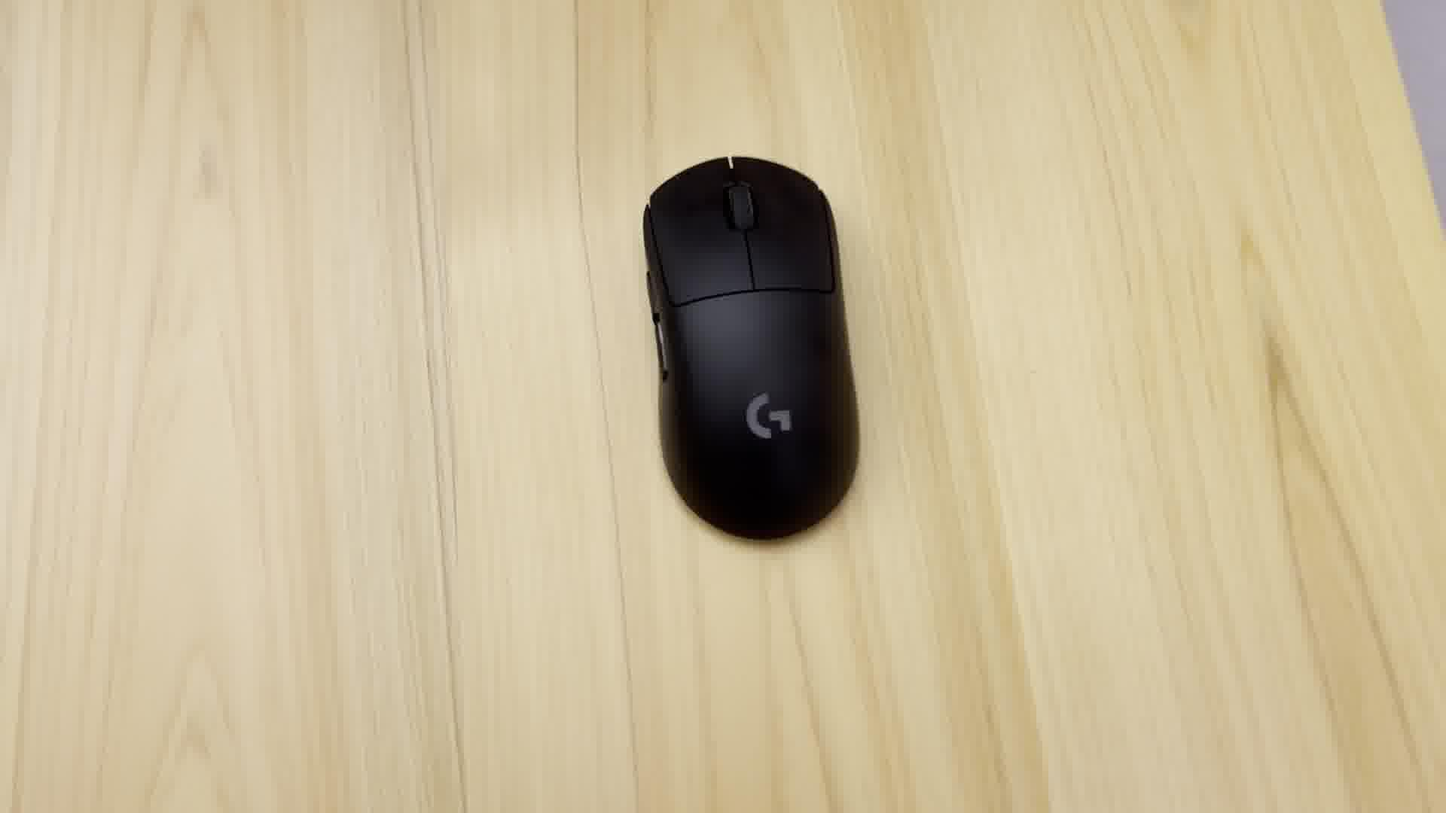logicool: (635, 149, 870, 552)
